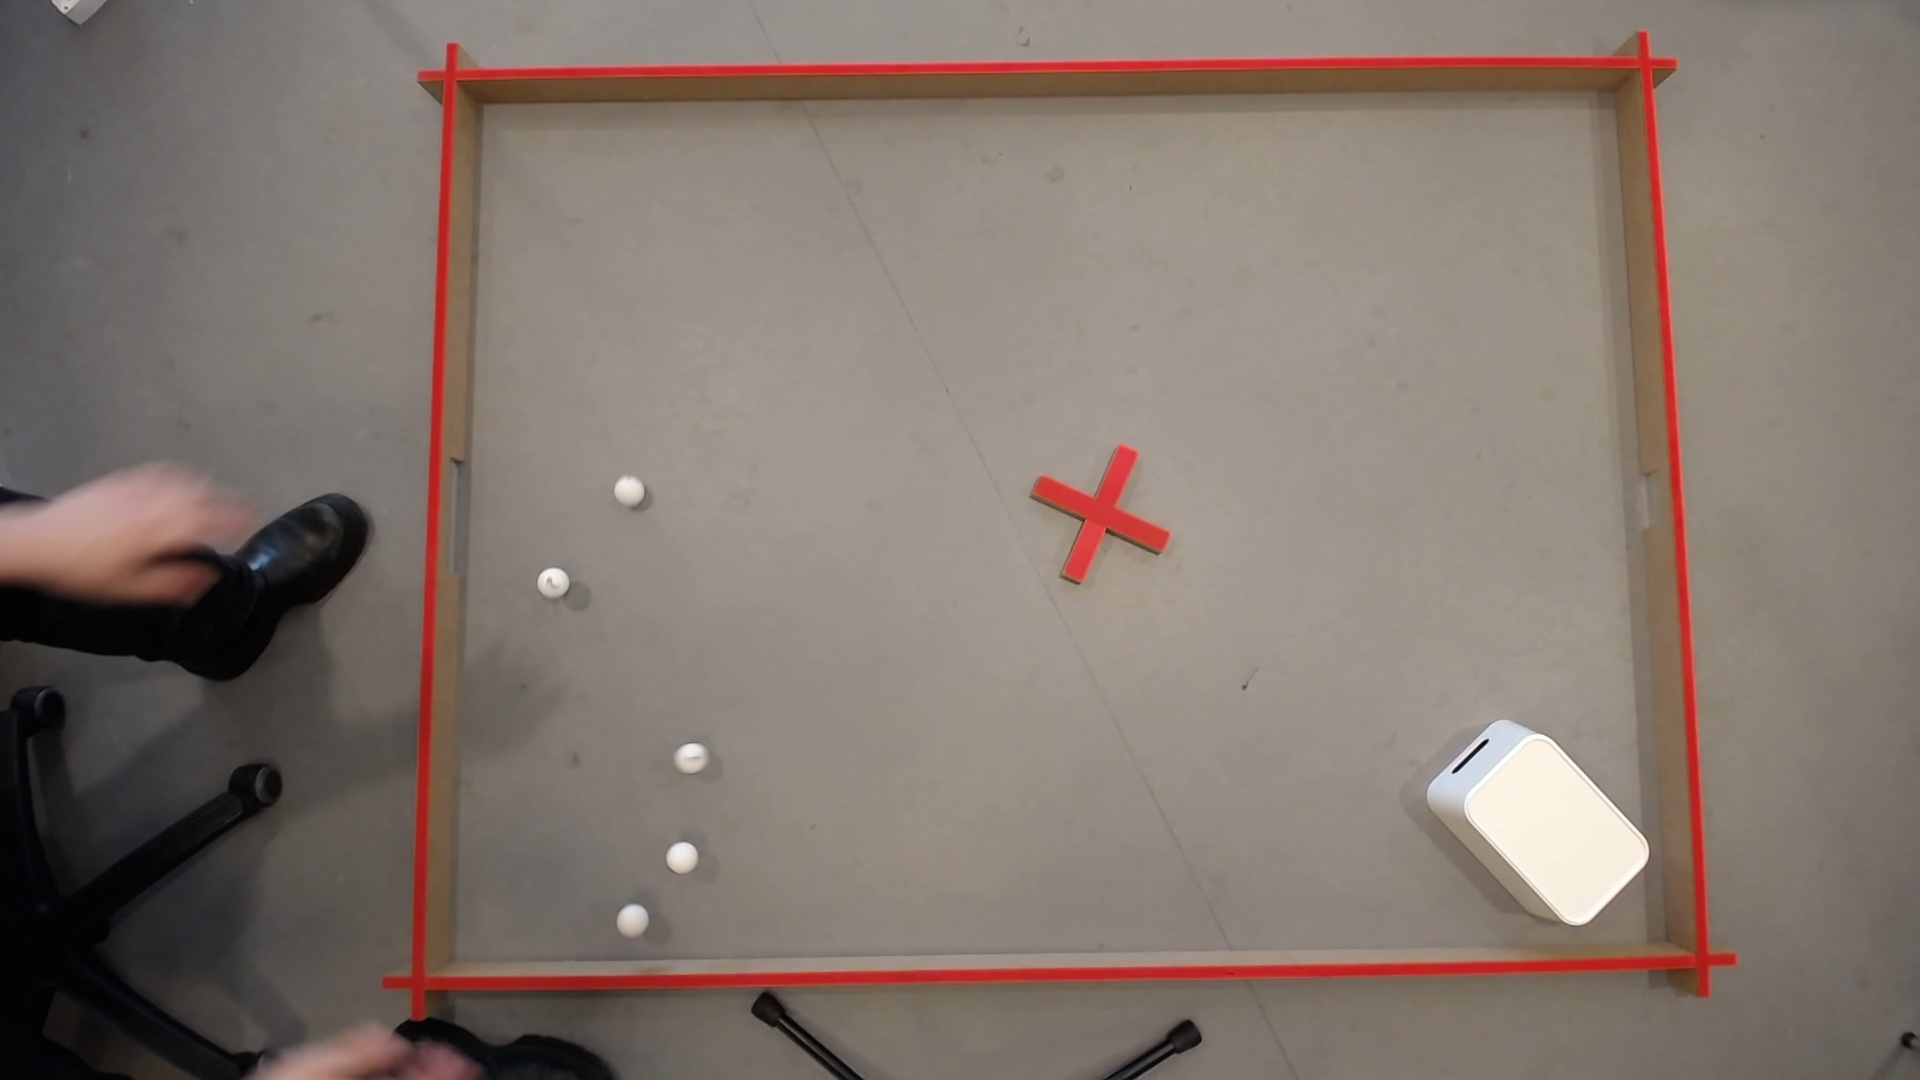balls: (1424, 699, 1662, 934), (662, 836, 700, 873), (531, 562, 570, 597), (611, 471, 645, 504)
car: (615, 899, 647, 932)
